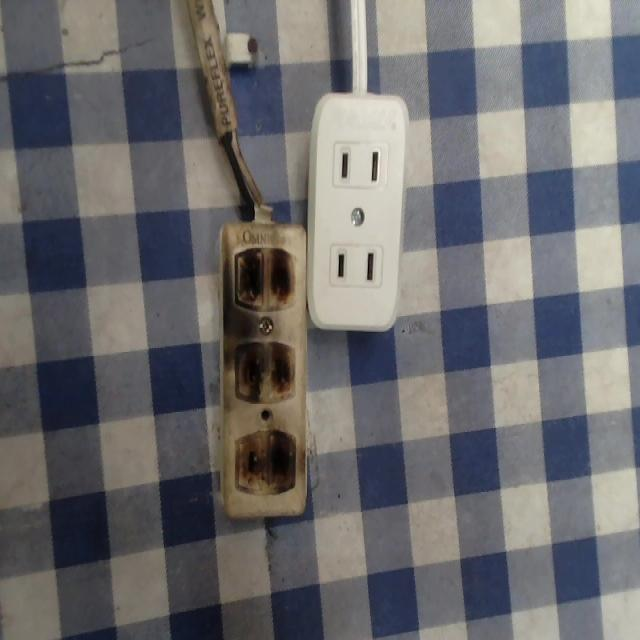-: (231, 342, 299, 406), (233, 247, 297, 313), (233, 429, 295, 494)
